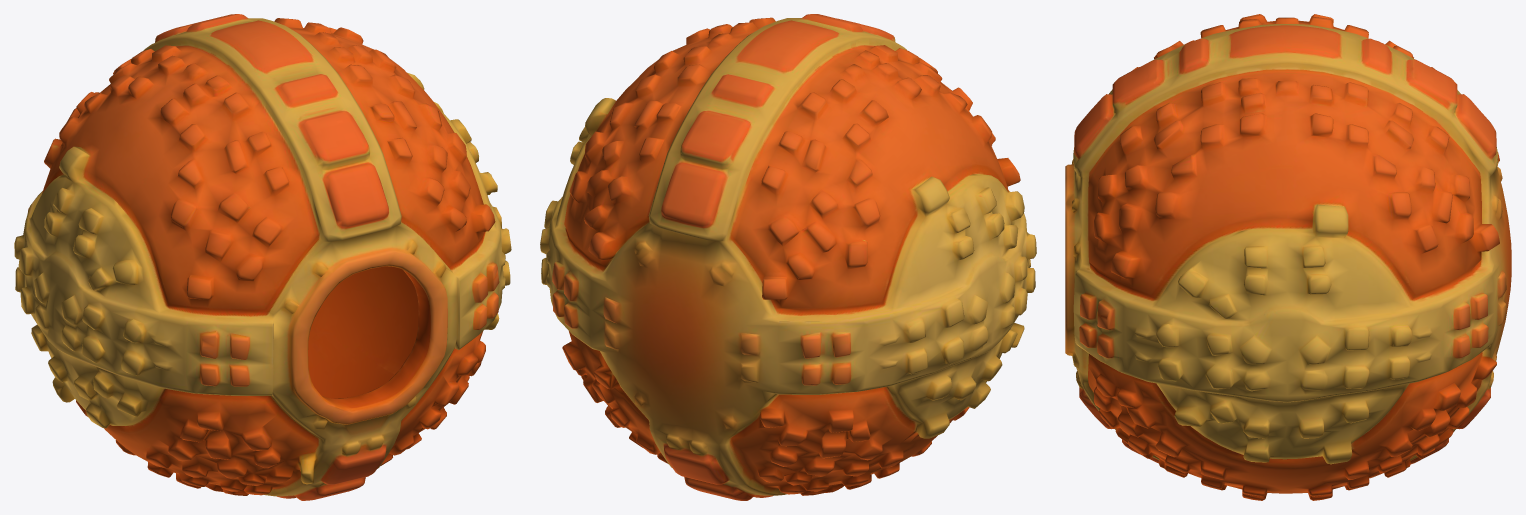
File: item_anti_slip_shell.glb
3 views of the same model, side by side, from view 1: azimuth 30°, elevation 25°; view 2: azimuth 150°, elevation 25°; view 3: azimuth 270°, elevation 25° (orthographic).
Parts seen in each view (by area): view 1: material; view 2: material; view 3: material.
Boxes of the visible parts, <box> form: material: <box>14,14,511,500</box>; material: <box>540,14,1036,500</box>; material: <box>1065,14,1511,500</box>.
Bounding box in the file's own units: 1.9 × 1.9 × 1.73.
1 material, 1 textured.
